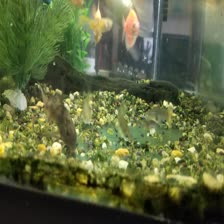Guppy: (137, 99, 179, 136), (109, 98, 133, 144)
Kiros: (33, 80, 81, 150)
Plano: (122, 5, 142, 52)
